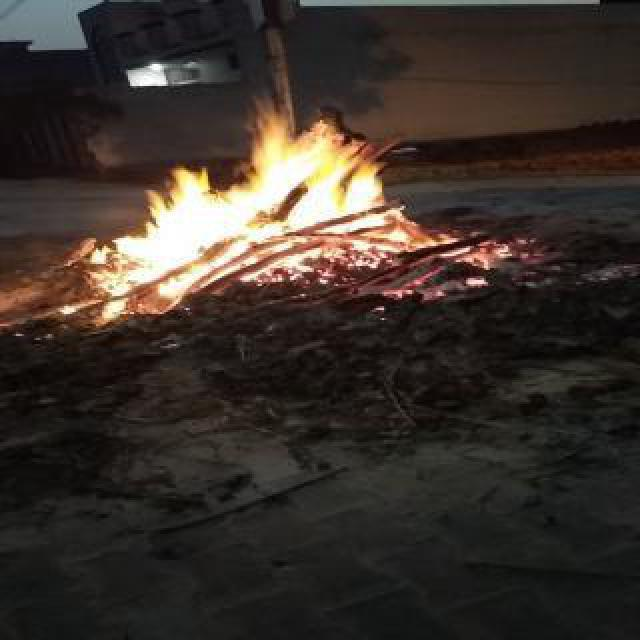Fire: (44, 104, 476, 306)
